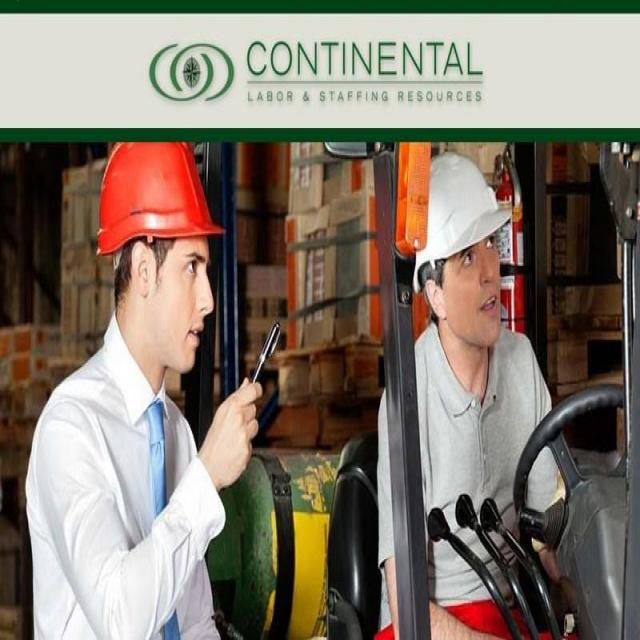helmet: (87, 139, 229, 263), (429, 154, 521, 312)
no-vest: (28, 377, 222, 634), (414, 346, 547, 620)
person: (28, 139, 230, 640), (370, 149, 547, 637)
